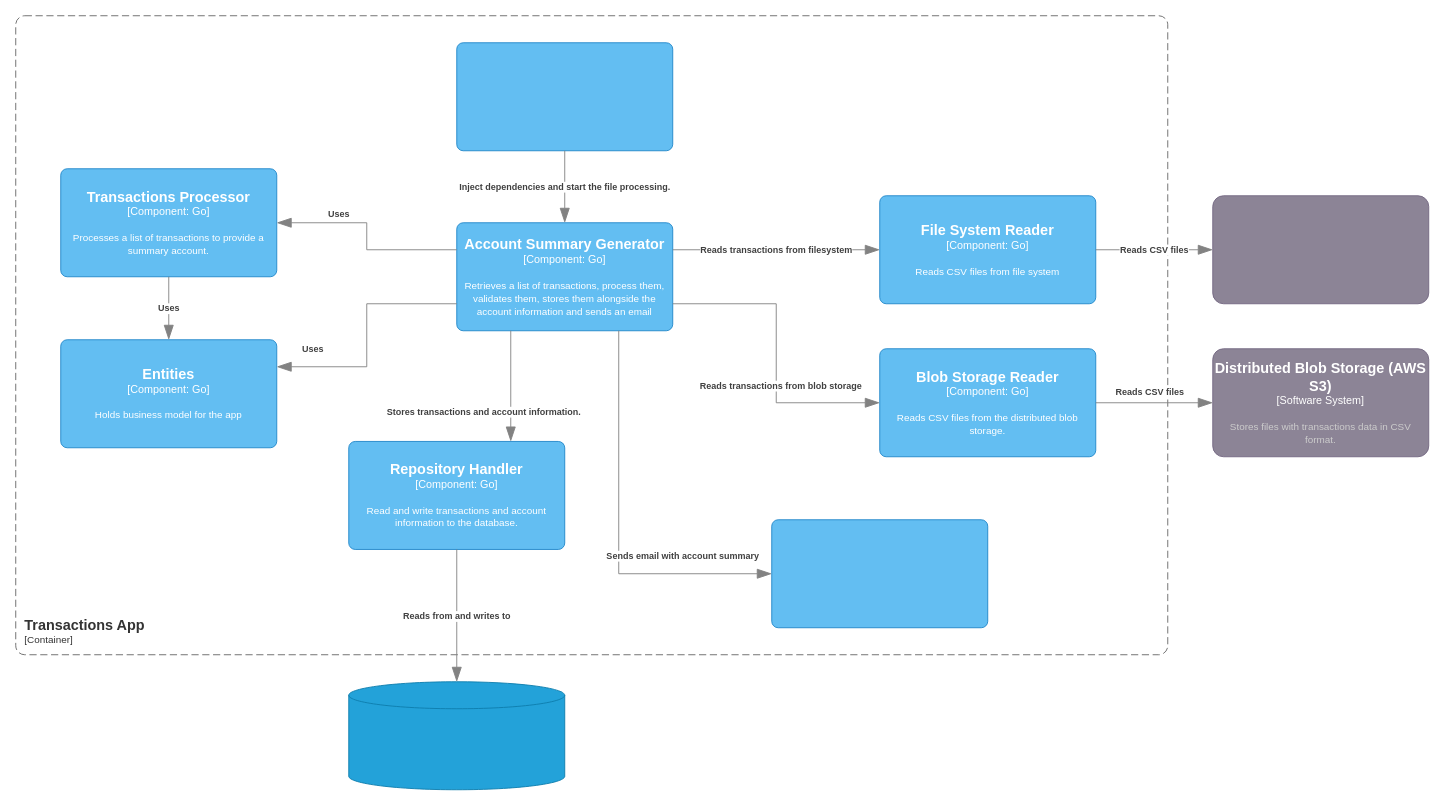
The diagram is 1445 pixels wide and 806 high, and some of its shapes have lost their labels. Here are the shapes that lost their labels. From the top down, the centre of each, then its label:
At point 564,96: "Main [Component: Go] Initialize the app and inject dependencies".
At point 1320,249: "File System [Software System] Stores files with transactions data in CSV format.".
At point 879,573: "Email Adapter [Component: Go] Sends email to a given recipient".
At point 456,735: "Database [Container: Postgres 17] Stores transactions and account information.".
